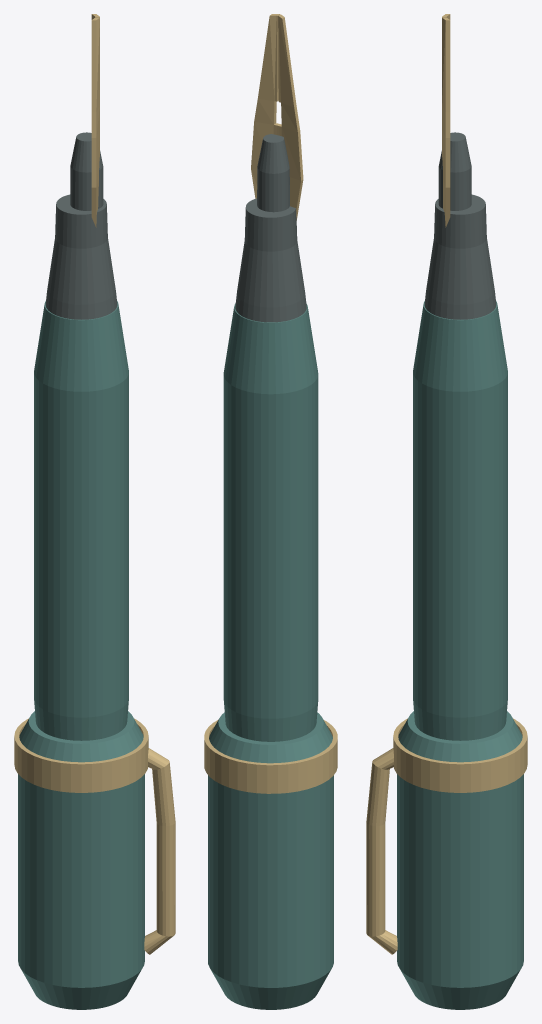
The picture shows the model from 3 angles, left to right: view 1: azimuth 90°, elevation 25°; view 2: azimuth 150°, elevation 25°; view 3: azimuth 270°, elevation 25°; orthographic projection.
Visible parts, largest first — view 1: WholeContinuousPenBarrel, WholePostedClosedBottomCap, WholeNarrowGripSection, WholeMouthBand, WholeContinuousCapPocketClip, WholeDarkFeedSupport, WholeCurvedSplitNibAndExpandedVent; view 2: WholeContinuousPenBarrel, WholePostedClosedBottomCap, WholeNarrowGripSection, WholeCurvedSplitNibAndExpandedVent, WholeMouthBand, WholeDarkFeedSupport; view 3: WholeContinuousPenBarrel, WholePostedClosedBottomCap, WholeNarrowGripSection, WholeMouthBand, WholeContinuousCapPocketClip, WholeDarkFeedSupport, WholeCurvedSplitNibAndExpandedVent.
Boxes of the visible parts, left/top/right/bottom form: WholeContinuousPenBarrel: left=34, top=301, right=128, bottom=740; WholePostedClosedBottomCap: left=18, top=711, right=144, bottom=1009; WholeNarrowGripSection: left=45, top=194, right=117, bottom=319; WholeMouthBand: left=14, top=718, right=148, bottom=792; WholeContinuousCapPocketClip: left=144, top=748, right=175, bottom=954; WholeDarkFeedSupport: left=70, top=132, right=103, bottom=210; WholeCurvedSplitNibAndExpandedVent: left=91, top=14, right=99, bottom=227; WholeContinuousPenBarrel: left=223, top=303, right=318, bottom=741; WholePostedClosedBottomCap: left=208, top=712, right=333, bottom=1009; WholeNarrowGripSection: left=235, top=198, right=306, bottom=322; WholeCurvedSplitNibAndExpandedVent: left=251, top=14, right=303, bottom=220; WholeMouthBand: left=204, top=720, right=337, bottom=793; WholeDarkFeedSupport: left=257, top=134, right=289, bottom=212; WholeContinuousPenBarrel: left=413, top=301, right=507, bottom=740; WholePostedClosedBottomCap: left=397, top=711, right=523, bottom=1009; WholeNarrowGripSection: left=424, top=194, right=496, bottom=319; WholeMouthBand: left=393, top=718, right=527, bottom=792; WholeContinuousCapPocketClip: left=366, top=748, right=397, bottom=954; WholeDarkFeedSupport: left=438, top=132, right=471, bottom=210; WholeCurvedSplitNibAndExpandedVent: left=442, top=14, right=450, bottom=227.
Size of the model in its own units: 0.0254 by 0.203 by 0.0305.
